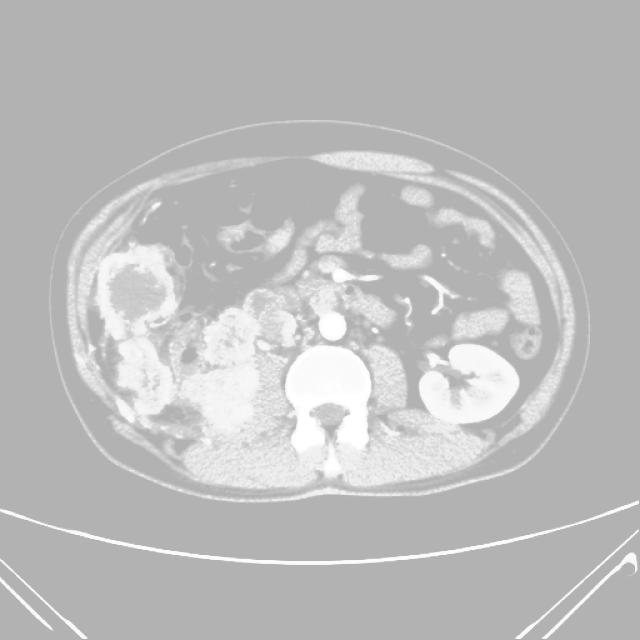TUMOR: (100, 207, 609, 505)
